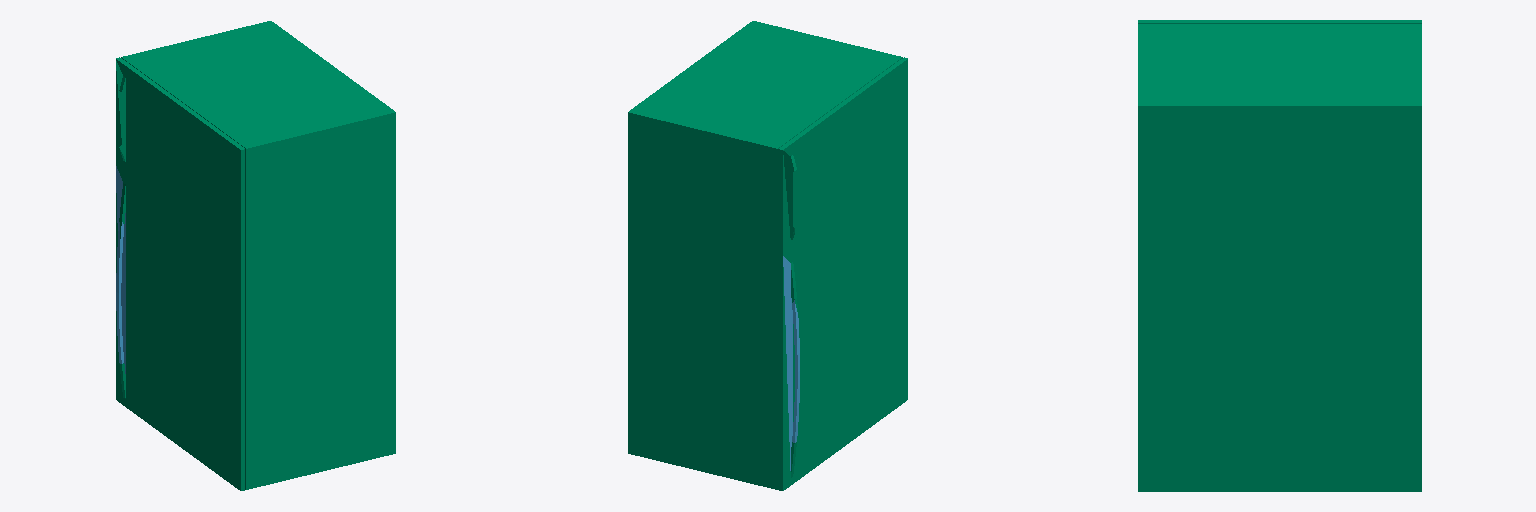
The robot description file, URDF, robot "partnet_d3c3cf0cb64bb51a208dc8b344513a31":
<?xml version="1.0" ?>
<robot name="partnet_d3c3cf0cb64bb51a208dc8b344513a31">
	<link name="base"/>
	<link name="link_0">
		<visual name="switch-2">
			<origin xyz="0.000505679999685326 0 0.11965534633700722"/>
			<geometry>
				<mesh filename="textured_objs/new-2.obj"/>
			</geometry>
		</visual>
		<visual name="switch-2">
			<origin xyz="0.000505679999685326 0 0.11965534633700722"/>
			<geometry>
				<mesh filename="textured_objs/original-4.obj"/>
			</geometry>
		</visual>
		<collision>
			<origin xyz="0.000505679999685326 0 0.11965534633700722"/>
			<geometry>
				<mesh filename="textured_objs/new-2.obj"/>
			</geometry>
		</collision>
		<collision>
			<origin xyz="0.000505679999685326 0 0.11965534633700722"/>
			<geometry>
				<mesh filename="textured_objs/original-4.obj"/>
			</geometry>
		</collision>
	</link>
	<joint name="joint_0" type="revolute">
		<origin xyz="-0.000505679999685326 0 -0.11965534633700722"/>
		<axis xyz="0 1 0"/>
		<child link="link_0"/>
		<parent link="link_1"/>
		<limit lower="-1.5707963267948966" upper="1.5707963267948966"/>
	</joint>
	<link name="link_1">
		<visual name="surface_base-7">
			<origin xyz="0 0 0"/>
			<geometry>
				<mesh filename="textured_objs/new-5.obj"/>
			</geometry>
		</visual>
		<visual name="surface_base-7">
			<origin xyz="0 0 0"/>
			<geometry>
				<mesh filename="textured_objs/new-4.obj"/>
			</geometry>
		</visual>
		<visual name="vertical_support-8">
			<origin xyz="0 0 0"/>
			<geometry>
				<mesh filename="textured_objs/new-3.obj"/>
			</geometry>
		</visual>
		<visual name="tube-5">
			<origin xyz="0 0 0"/>
			<geometry>
				<mesh filename="textured_objs/new-6.obj"/>
			</geometry>
		</visual>
		<visual name="head-6">
			<origin xyz="0 0 0"/>
			<geometry>
				<mesh filename="textured_objs/new-0.obj"/>
			</geometry>
		</visual>
		<collision>
			<origin xyz="0 0 0"/>
			<geometry>
				<mesh filename="textured_objs/new-5.obj"/>
			</geometry>
		</collision>
		<collision>
			<origin xyz="0 0 0"/>
			<geometry>
				<mesh filename="textured_objs/new-4.obj"/>
			</geometry>
		</collision>
		<collision>
			<origin xyz="0 0 0"/>
			<geometry>
				<mesh filename="textured_objs/new-3.obj"/>
			</geometry>
		</collision>
		<collision>
			<origin xyz="0 0 0"/>
			<geometry>
				<mesh filename="textured_objs/new-6.obj"/>
			</geometry>
		</collision>
		<collision>
			<origin xyz="0 0 0"/>
			<geometry>
				<mesh filename="textured_objs/new-0.obj"/>
			</geometry>
		</collision>
	</link>
	<joint name="joint_1" type="fixed">
		<origin rpy="1.570796326794897 0 -1.570796326794897" xyz="0 0 0"/>
		<child link="link_1"/>
		<parent link="base"/>
	</joint>
</robot>

--- Render facts (derived) ---
The picture shows the robot from 3 angles, left to right: view 1: azimuth 30°, elevation 25°; view 2: azimuth 150°, elevation 25°; view 3: azimuth 270°, elevation 25°; orthographic projection.
Robot: partnet_d3c3cf0cb64bb51a208dc8b344513a31 — 3 links, 2 joints (1 revolute, 1 fixed); root link base; default pose: all joints at 0.
Links seen in each view (by area): view 1: link_1, link_0; view 2: link_1, link_0; view 3: link_1.
Link boxes in pixels (x1=…): link_1: x1=116, y1=21, x2=395, y2=490; link_0: x1=116, y1=166, x2=125, y2=373; link_1: x1=628, y1=21, x2=907, y2=490; link_0: x1=783, y1=256, x2=799, y2=470; link_1: x1=1138, y1=20, x2=1421, y2=491.
Bounding box of the posed robot: 0.777 × 1.04 × 1.56 m (x, y, z).
Meshes: 7 distinct files referenced, 4 mesh visuals loaded (4 OBJ); not drawn: 3 (reference not matched to a file when rendering).